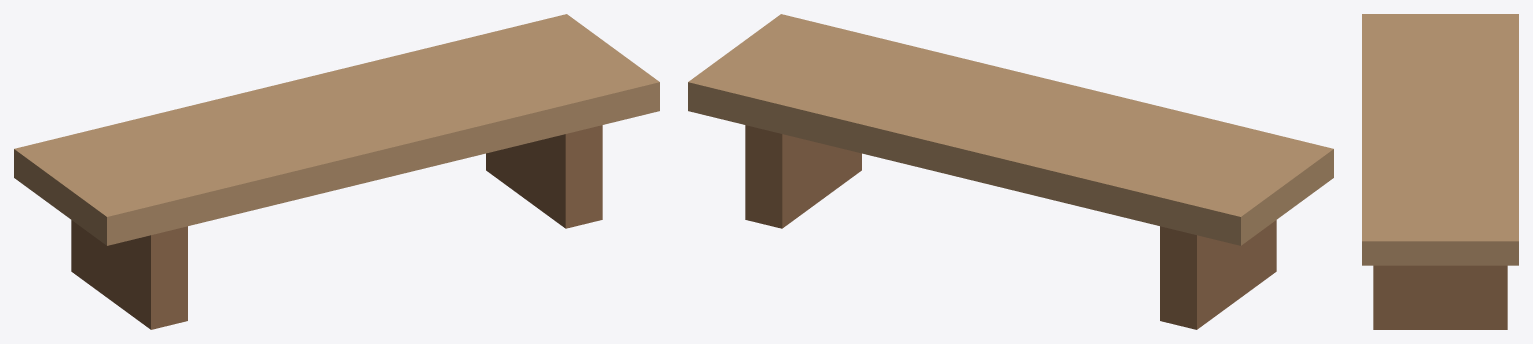
The model's file is tavern_bench.glb.
The picture shows the model from 3 angles, left to right: view 1: azimuth 30°, elevation 25°; view 2: azimuth 150°, elevation 25°; view 3: azimuth 270°, elevation 25°; orthographic projection. The views are drawn at different scales.
Visible parts, largest first — view 1: tavern_bench_Mesh; view 2: tavern_bench_Mesh; view 3: tavern_bench_Mesh.
Part boxes in pixels (bbox=[...]): tavern_bench_Mesh: bbox=[14, 14, 659, 329]; tavern_bench_Mesh: bbox=[688, 14, 1333, 329]; tavern_bench_Mesh: bbox=[1362, 14, 1518, 329].
Size of the model in its own units: 2.4 by 0.54 by 0.7.
